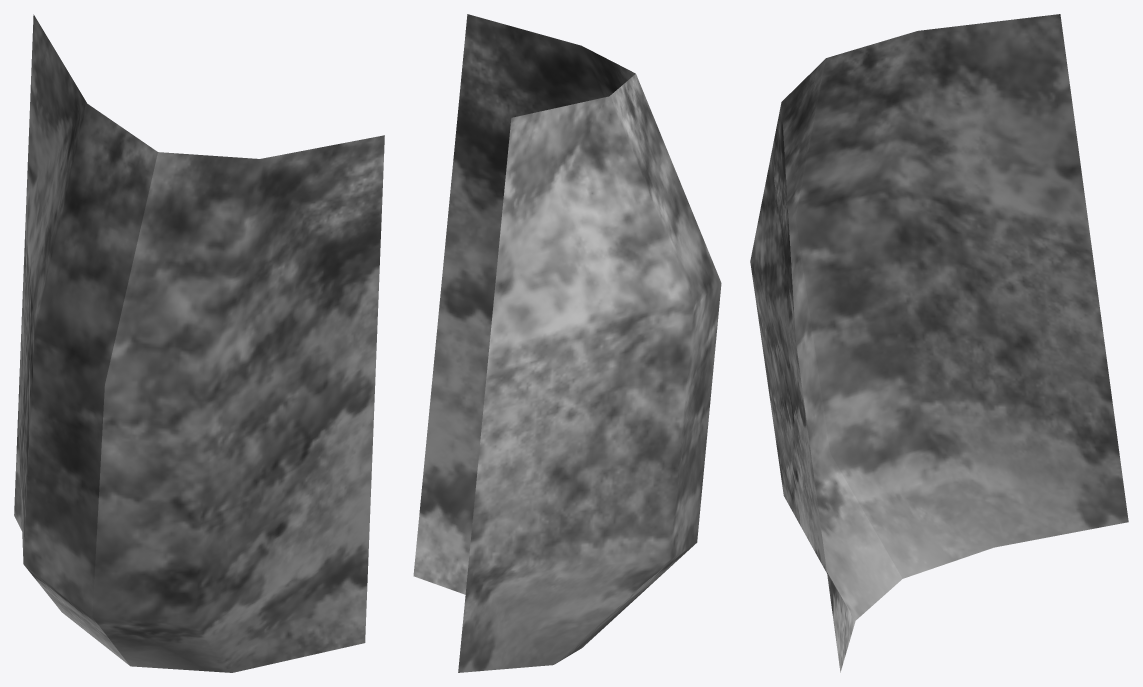
The model's file is Storm_card_3.fbx.
3 renders of one model, left to right at view 1: azimuth 30°, elevation 25°; view 2: azimuth 150°, elevation 25°; view 3: azimuth 270°, elevation 25°, orthographic. The views are drawn at different scales.
Visible parts, largest first — view 1: Storm_card_3; view 2: Storm_card_3; view 3: Storm_card_3.
Part boxes in pixels (x1=…): Storm_card_3: x1=14, y1=14, x2=384, y2=672; Storm_card_3: x1=413, y1=14, x2=721, y2=672; Storm_card_3: x1=750, y1=14, x2=1128, y2=672.
Bounding box in the file's own units: 25.95 × 48.84 × 29.63.
